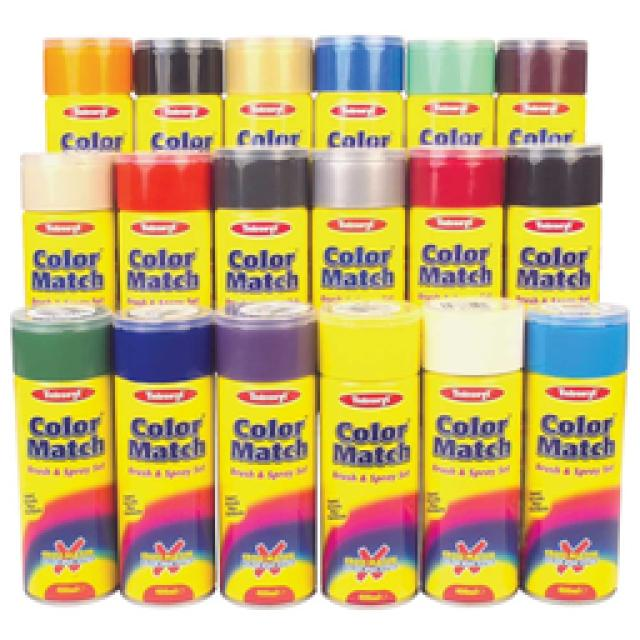B3: (41, 42, 600, 291), (116, 154, 212, 314), (312, 151, 404, 313)
zat_kimia: (8, 317, 118, 602), (319, 297, 421, 604), (113, 304, 216, 604), (216, 300, 317, 602), (523, 305, 624, 597), (433, 304, 529, 600), (19, 155, 114, 308), (43, 39, 133, 152)
